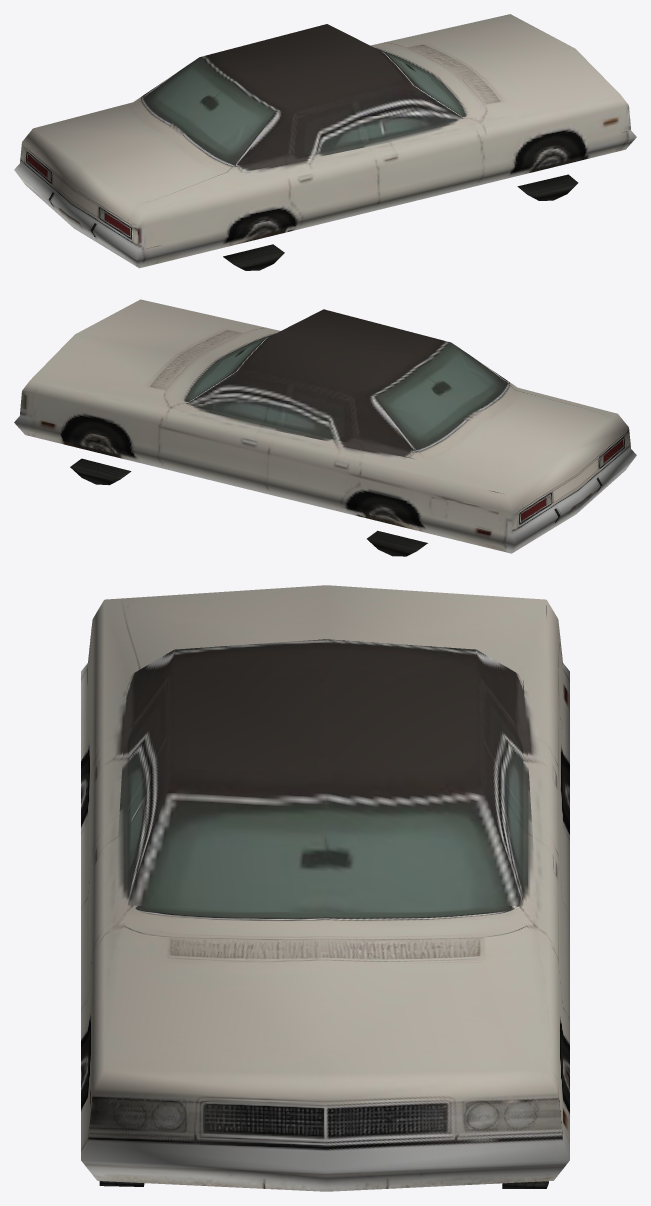
File: car_SP.glb
The picture shows the model from 3 angles, top to bottom: view 1: azimuth 30°, elevation 25°; view 2: azimuth 150°, elevation 25°; view 3: azimuth 270°, elevation 25°; orthographic projection. The views are drawn at different scales.
Parts seen in each view (by area): view 1: tripo_node_3aaaf423-0475-4f5d-85b8-960657d5e5b7; view 2: tripo_node_3aaaf423-0475-4f5d-85b8-960657d5e5b7; view 3: tripo_node_3aaaf423-0475-4f5d-85b8-960657d5e5b7.
Part boxes in pixels (<box>): tripo_node_3aaaf423-0475-4f5d-85b8-960657d5e5b7: <box>14,14,636,270</box>; tripo_node_3aaaf423-0475-4f5d-85b8-960657d5e5b7: <box>14,299,636,556</box>; tripo_node_3aaaf423-0475-4f5d-85b8-960657d5e5b7: <box>81,585,569,1191</box>.
Bounding box in the file's own units: 5.68 × 1.5 × 2.32.
Materials: 1 (1 with a texture image).
